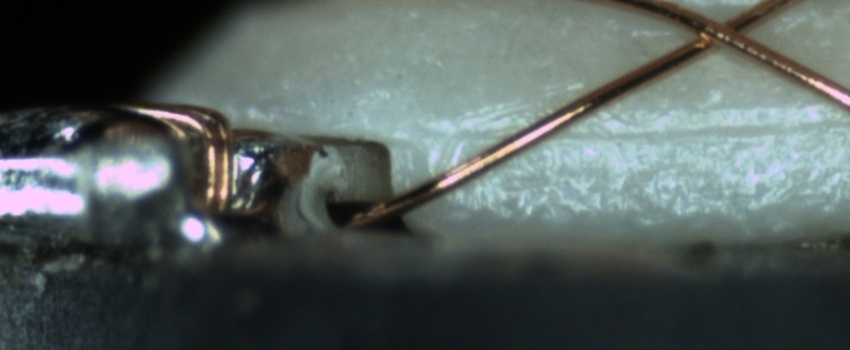CL: (677, 3, 771, 57)
DL: (414, 101, 849, 168)
TE: (105, 96, 238, 226)
